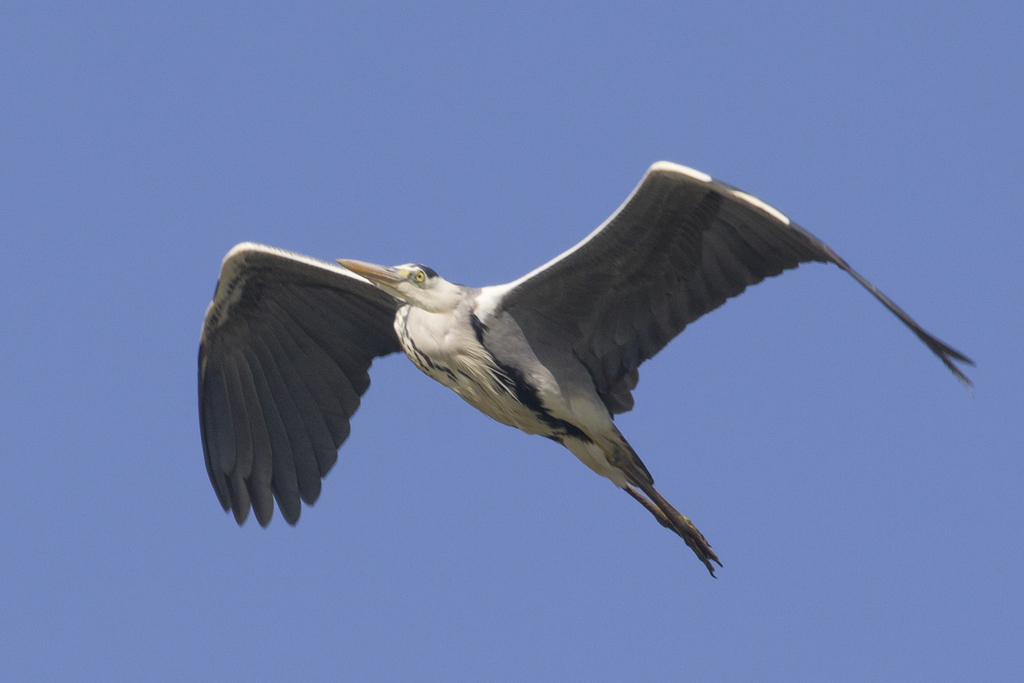heron: (194, 159, 984, 578)
